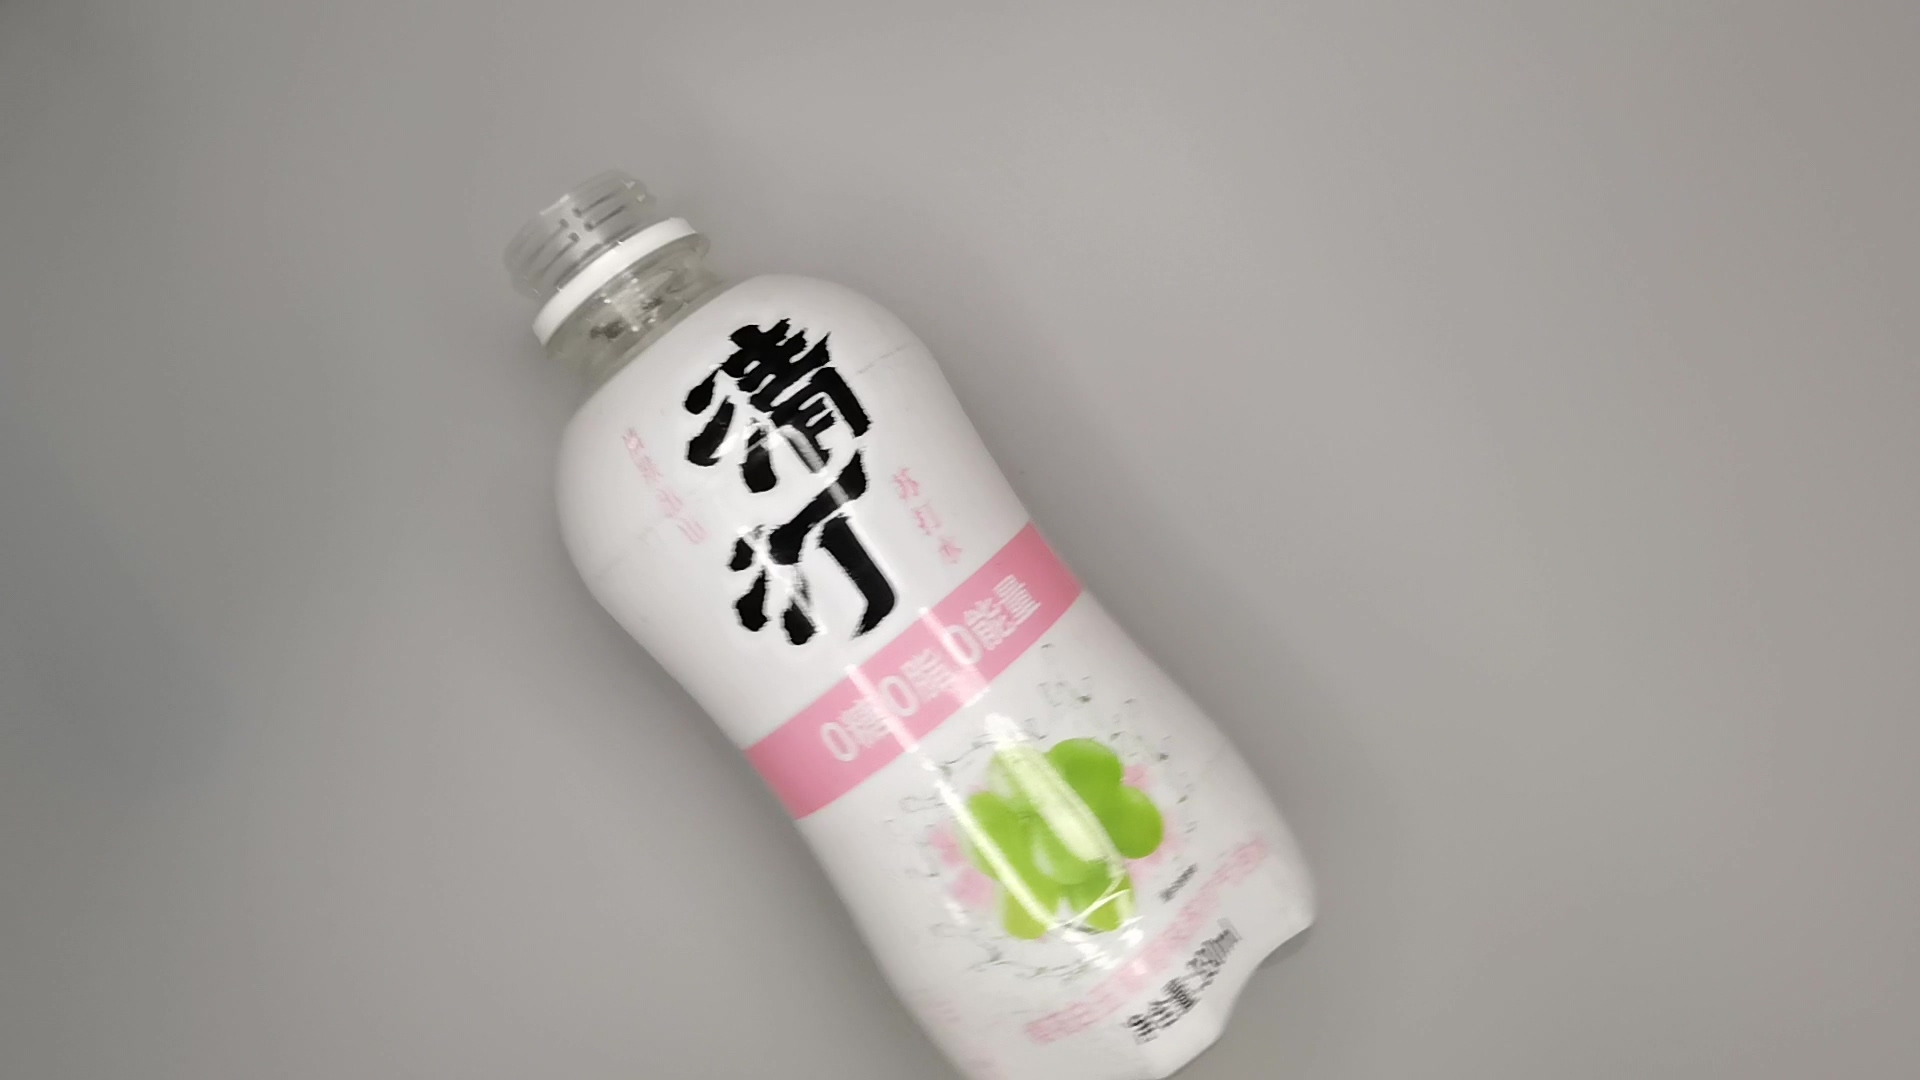bottle: (504, 165, 1324, 1080)
